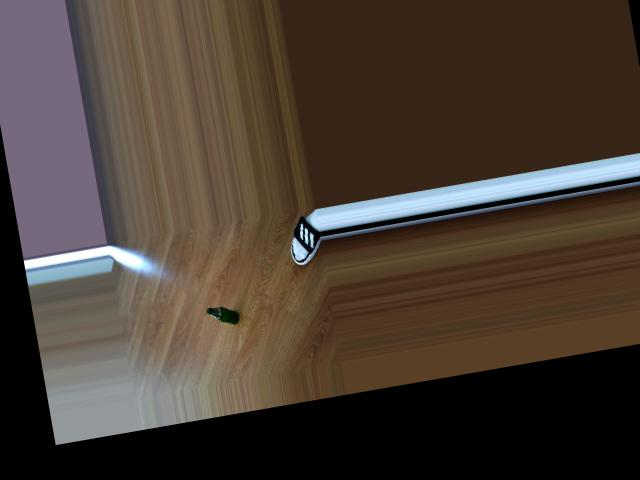beer: (207, 302, 239, 327)
